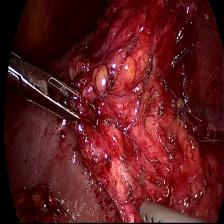Grasper: (8, 53, 102, 129)
Irrigator: (131, 197, 179, 224)
